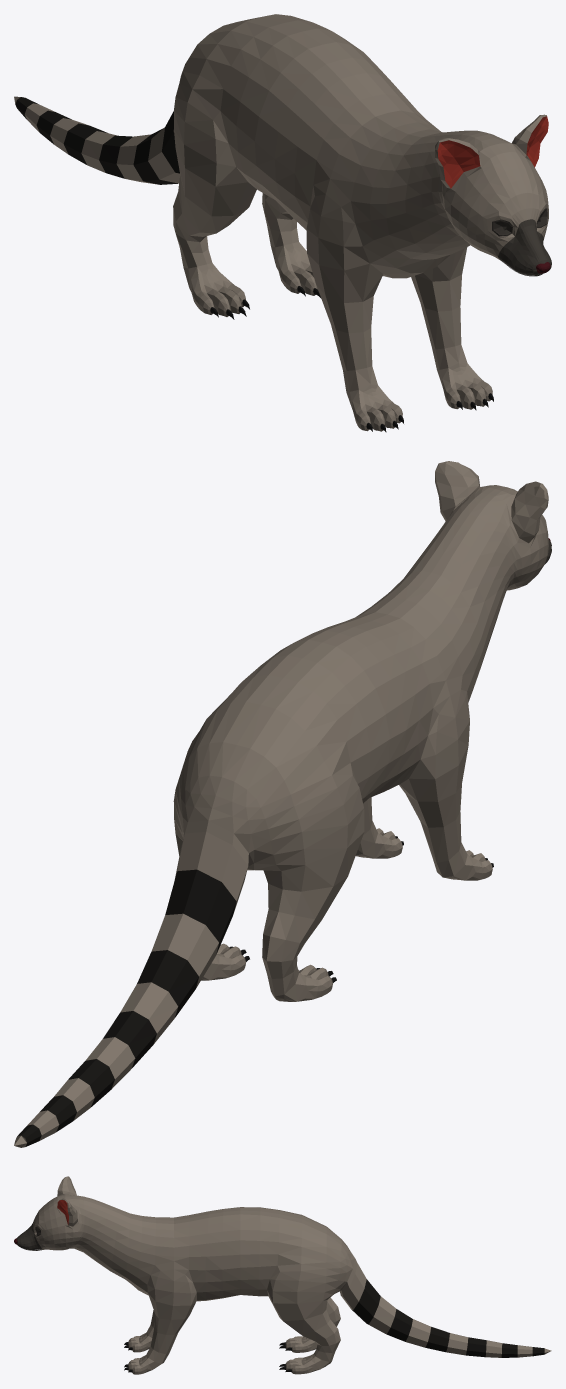
The model's file is genet_genet_triangulated.obj.
3 renders of one model, top to bottom at view 1: azimuth 30°, elevation 25°; view 2: azimuth 150°, elevation 25°; view 3: azimuth 270°, elevation 25°, orthographic. The views are drawn at different scales.
Size of the model in its own units: 0.2597 by 0.5128 by 1.46.
